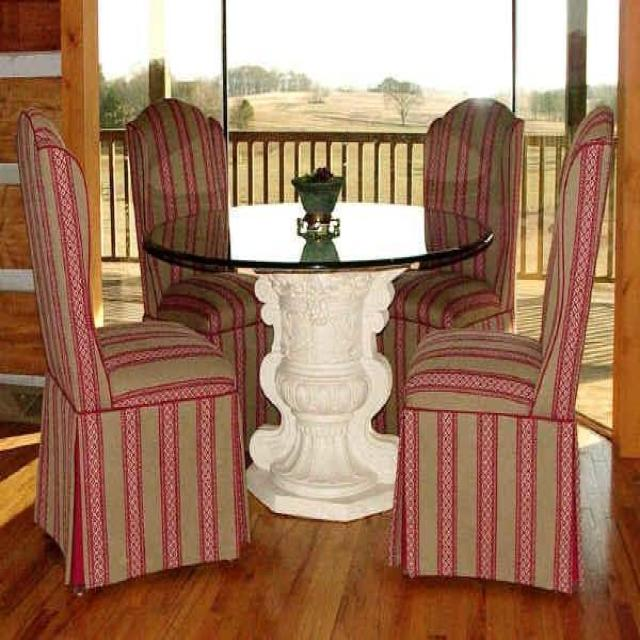chair: (16, 106, 251, 595), (387, 103, 616, 594), (124, 95, 270, 468)
plants: (290, 165, 345, 236)
sofa: (373, 95, 525, 436)
table: (142, 198, 494, 522)
